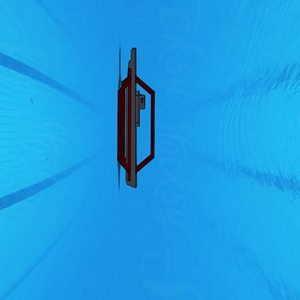submarine: (116, 48, 157, 188)
